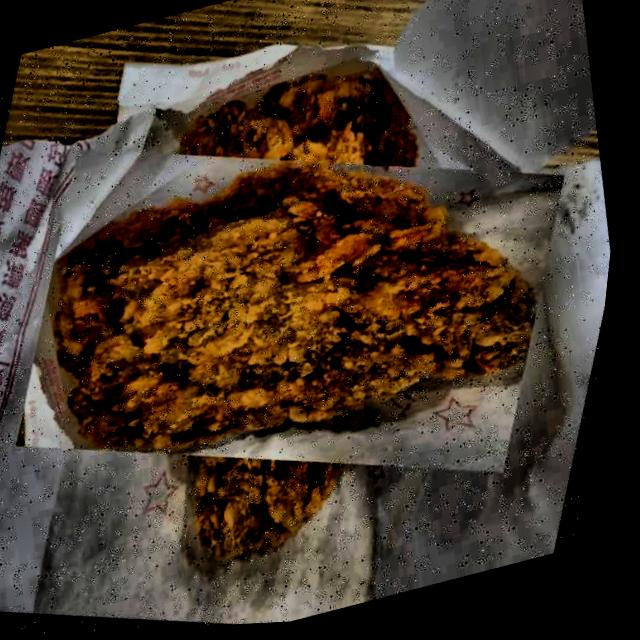Food: (0, 5, 618, 622)
